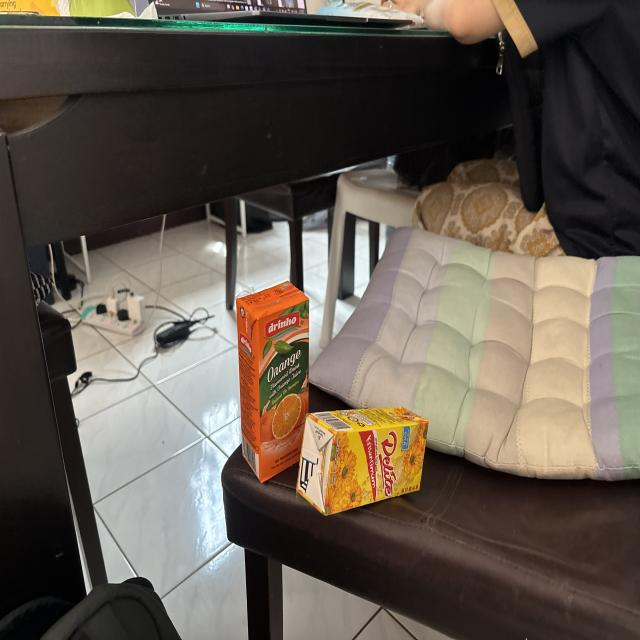drink_carton: (231, 274, 316, 489), (292, 403, 434, 519)
